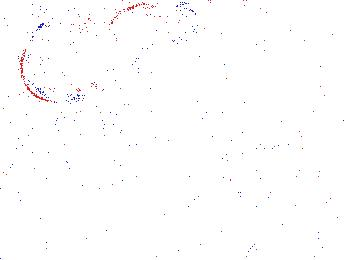moon jellyfish: (101, 4, 201, 75), (21, 22, 89, 103), (258, 24, 342, 70)
